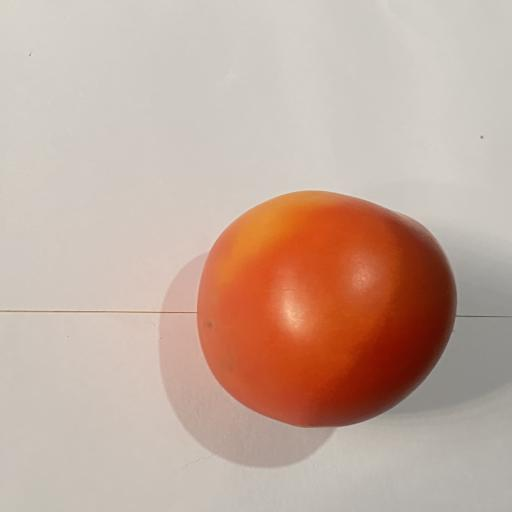ripe: (197, 191, 456, 427)
